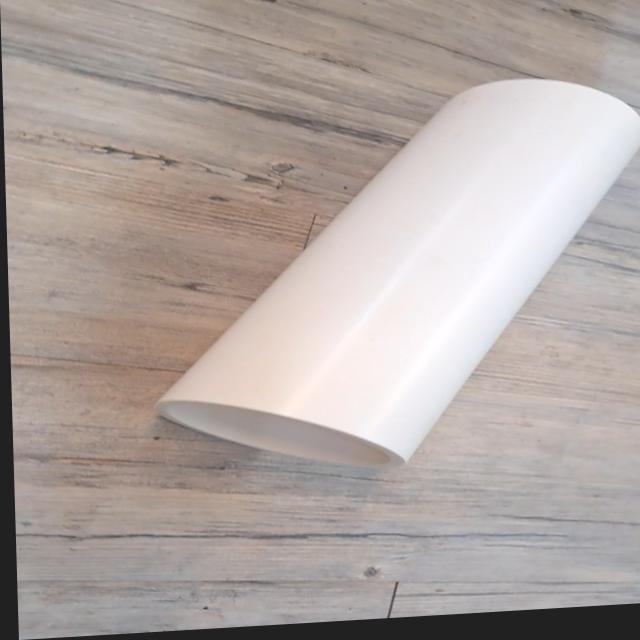CORAL: (146, 60, 640, 499)
